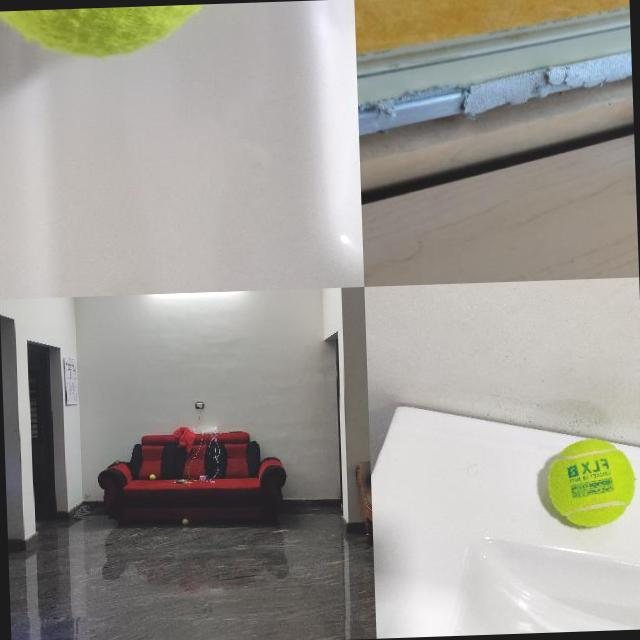Tennis Ball: (546, 437, 636, 529), (150, 473, 156, 479), (182, 518, 188, 524)
